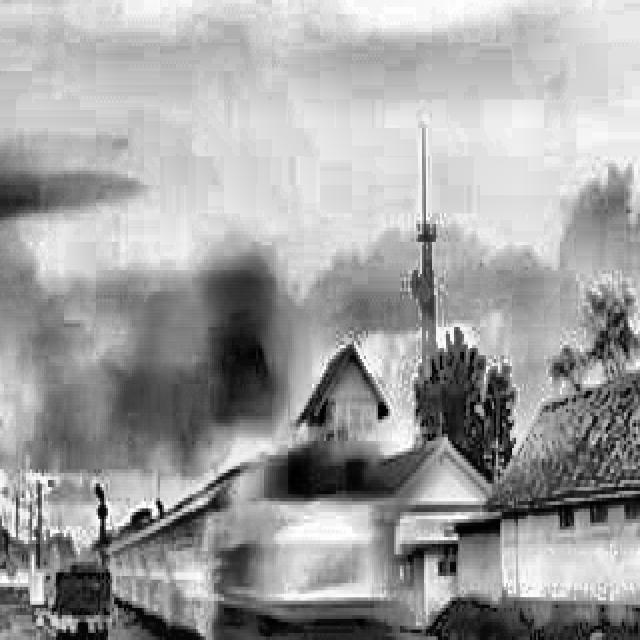Kereta: (104, 462, 226, 640)
Lokomotif: (212, 402, 414, 640)
